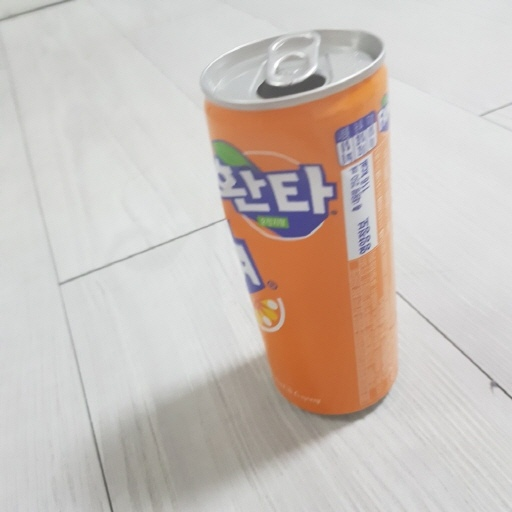Metal_0: (201, 26, 409, 419)
